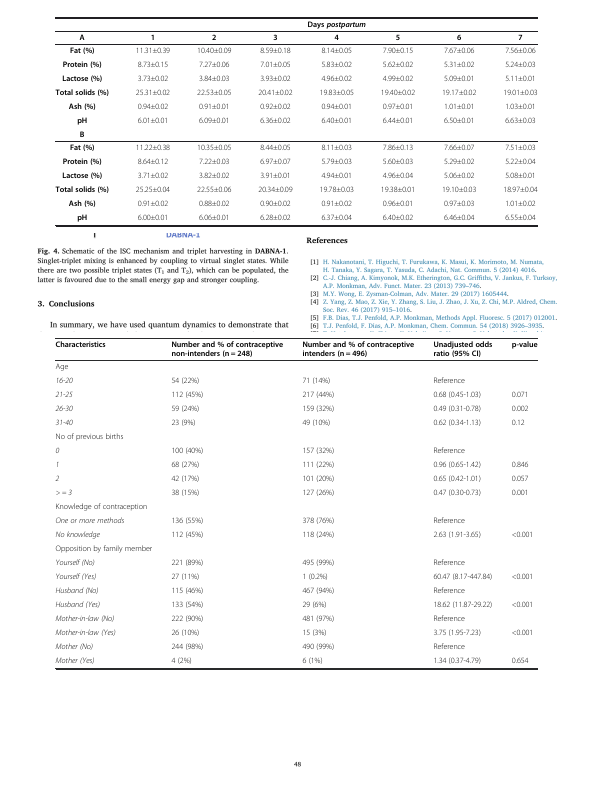borderless: (54, 337, 537, 668), (55, 16, 537, 225)
cell: (170, 341, 284, 359), (301, 341, 415, 359), (432, 341, 493, 359), (55, 545, 153, 555), (55, 503, 148, 513), (55, 433, 124, 443), (55, 517, 125, 526), (432, 573, 493, 583), (432, 601, 493, 611), (55, 629, 117, 638), (55, 88, 110, 98), (55, 185, 110, 195), (55, 615, 115, 624), (307, 20, 367, 29), (432, 391, 482, 401), (432, 405, 482, 415), (432, 419, 482, 429), (432, 461, 482, 471), (432, 475, 482, 485), (432, 489, 482, 499), (432, 531, 482, 541), (432, 629, 482, 639), (432, 657, 482, 667), (55, 341, 107, 350), (55, 531, 101, 541), (61, 74, 103, 84), (61, 171, 103, 181), (55, 601, 101, 610), (62, 60, 102, 70), (62, 157, 102, 167), (55, 587, 99, 596), (55, 573, 97, 582), (55, 559, 96, 568), (55, 657, 95, 666), (55, 643, 94, 652), (432, 377, 466, 387), (170, 391, 204, 401), (301, 391, 335, 401), (301, 405, 335, 415), (170, 447, 204, 457), (301, 447, 335, 457), (432, 447, 466, 457), (301, 461, 335, 471), (301, 475, 335, 485), (301, 489, 335, 499), (170, 517, 204, 527), (301, 517, 335, 527), (432, 517, 466, 527), (170, 531, 204, 541), (301, 531, 335, 541), (170, 559, 204, 569), (301, 559, 335, 569), (432, 559, 466, 569), (170, 587, 204, 597), (301, 587, 335, 597), (432, 587, 466, 597), (170, 601, 204, 611), (170, 615, 204, 625), (301, 615, 335, 625), (432, 615, 466, 625), (170, 643, 204, 653), (301, 643, 335, 653), (432, 643, 466, 653), (170, 377, 200, 387), (301, 377, 331, 387), (170, 405, 200, 415), (301, 419, 331, 429), (170, 461, 200, 471), (170, 475, 200, 485), (170, 489, 200, 499), (170, 573, 200, 583), (170, 629, 200, 639), (301, 573, 329, 583), (68, 102, 96, 112), (68, 199, 96, 209), (170, 419, 196, 429), (301, 601, 327, 611), (301, 629, 327, 639), (69, 46, 95, 56), (69, 143, 95, 153), (135, 47, 171, 54), (196, 47, 232, 54), (135, 89, 171, 96), (196, 89, 232, 96), (257, 89, 293, 96), (319, 89, 355, 96), (380, 89, 416, 96), (441, 89, 477, 96), (502, 89, 538, 96), (135, 144, 171, 151), (196, 144, 232, 151), (135, 186, 171, 193), (196, 186, 232, 193), (257, 186, 293, 193), (319, 186, 355, 193), (380, 186, 416, 193), (441, 186, 477, 193), (502, 186, 538, 193), (511, 341, 538, 350), (259, 47, 292, 54), (320, 47, 353, 54), (504, 47, 537, 54), (259, 61, 292, 68), (320, 61, 353, 68), (504, 61, 537, 68), (259, 75, 292, 82), (320, 75, 353, 82), (504, 75, 537, 82), (259, 103, 292, 110), (320, 103, 353, 110), (504, 103, 537, 110), (259, 117, 292, 124), (320, 117, 353, 124), (504, 117, 537, 124), (259, 144, 292, 151), (320, 144, 353, 151), (504, 144, 537, 151), (259, 158, 292, 165), (320, 158, 353, 165), (504, 158, 537, 165), (259, 172, 292, 179), (320, 172, 353, 179), (504, 172, 537, 179), (259, 200, 292, 207), (320, 200, 353, 207), (504, 200, 537, 207), (259, 214, 292, 221), (320, 214, 353, 221), (504, 214, 537, 221), (511, 531, 534, 541), (511, 573, 534, 583), (511, 601, 534, 611), (511, 629, 534, 639), (382, 47, 414, 54), (443, 47, 475, 54), (137, 61, 169, 68), (198, 61, 230, 68), (382, 61, 414, 68), (443, 61, 475, 68), (137, 75, 169, 82), (198, 75, 230, 82), (382, 75, 414, 82), (443, 75, 475, 82), (137, 103, 169, 110), (198, 103, 230, 110), (382, 103, 414, 110), (443, 103, 475, 110), (137, 117, 169, 124), (198, 117, 230, 124), (382, 117, 414, 124), (443, 117, 475, 124), (382, 144, 414, 151), (443, 144, 475, 151), (137, 158, 169, 165), (198, 158, 230, 165), (382, 158, 414, 165), (443, 158, 475, 165), (137, 172, 169, 179), (198, 172, 230, 179), (382, 172, 414, 179), (443, 172, 475, 179), (137, 200, 169, 207), (198, 200, 230, 207), (382, 200, 414, 207), (443, 200, 475, 207), (137, 214, 169, 221), (198, 214, 230, 221), (382, 214, 414, 221), (443, 214, 475, 221), (170, 657, 192, 667), (301, 657, 323, 667), (511, 391, 529, 401), (511, 405, 529, 415), (511, 461, 529, 471), (511, 475, 529, 485), (511, 489, 529, 499), (511, 657, 529, 667), (55, 377, 73, 386), (55, 391, 73, 400), (55, 405, 73, 414), (55, 419, 73, 428), (55, 489, 73, 498), (511, 419, 526, 429), (55, 363, 69, 373), (76, 116, 88, 126), (76, 213, 88, 223), (79, 33, 86, 43), (333, 33, 340, 43), (150, 33, 156, 43), (211, 33, 217, 43), (272, 33, 278, 43), (395, 33, 401, 43), (456, 33, 462, 43), (517, 33, 523, 43), (79, 130, 85, 140), (55, 447, 60, 456), (55, 461, 60, 470), (55, 475, 60, 484)
